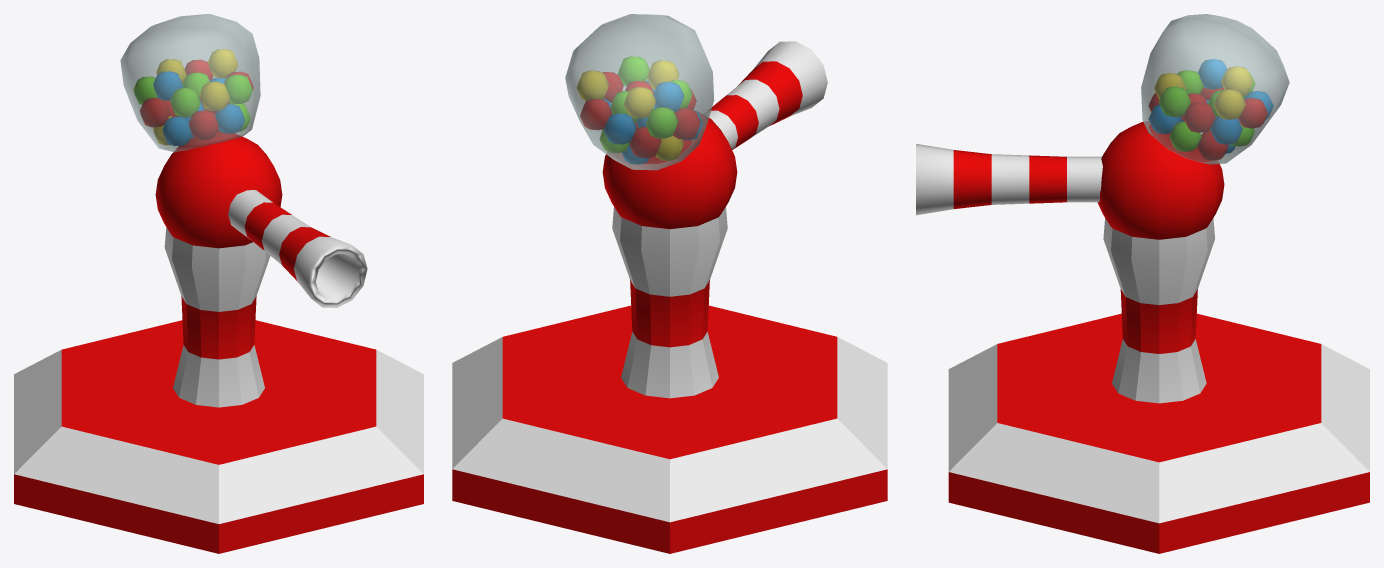
The model's file is turretGumBallv3-1.fbx.
3 renders of one model, left to right at view 1: azimuth 30°, elevation 25°; view 2: azimuth 150°, elevation 25°; view 3: azimuth 270°, elevation 25°, orthographic. The views are drawn at different scales.
Visible parts, largest first — view 1: turretGumBall1_stand, rotationObject; view 2: turretGumBall1_stand, rotationObject; view 3: turretGumBall1_stand, rotationObject.
Part boxes in pixels (x1,y1,x2,y2): turretGumBall1_stand: (14,227,423,553); rotationObject: (120,14,367,307); turretGumBall1_stand: (452,207,887,553); rotationObject: (565,14,827,229); turretGumBall1_stand: (948,218,1369,553); rotationObject: (916,14,1289,239).
Bounding box in the file's own units: 2 × 1.94 × 1.87.
